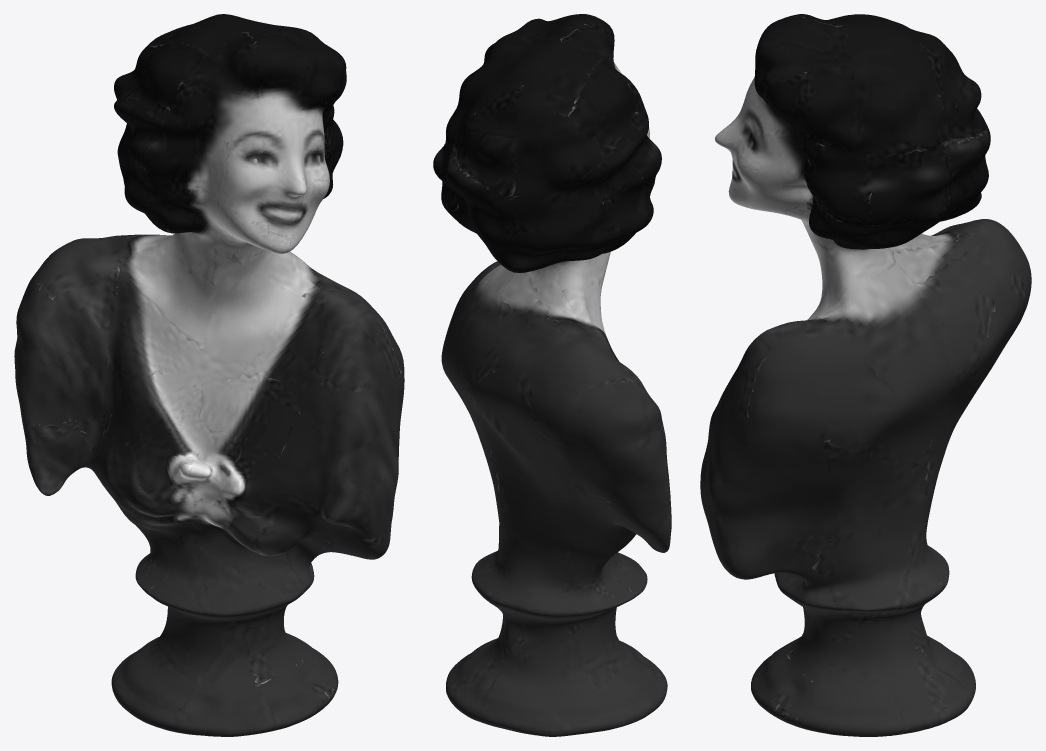
Rendered from loretta_young_compressed.glb.
3 renders of one model, left to right at view 1: azimuth 30°, elevation 25°; view 2: azimuth 150°, elevation 25°; view 3: azimuth 270°, elevation 25°, orthographic. The views are drawn at different scales.
Size of the model in its own units: 0.86 by 1.9 by 0.842.
1 material, 1 textured.
